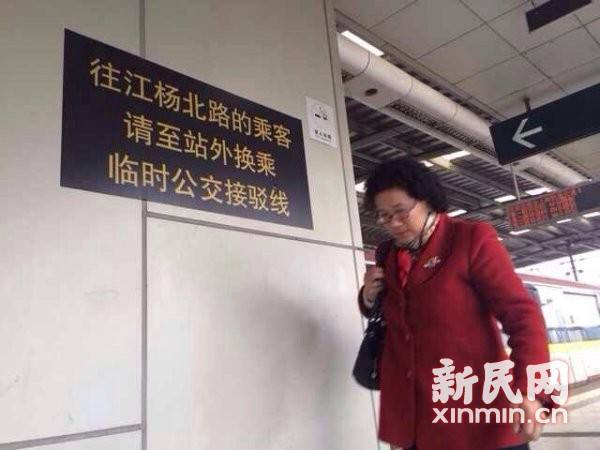bill: (60, 29, 315, 231)
